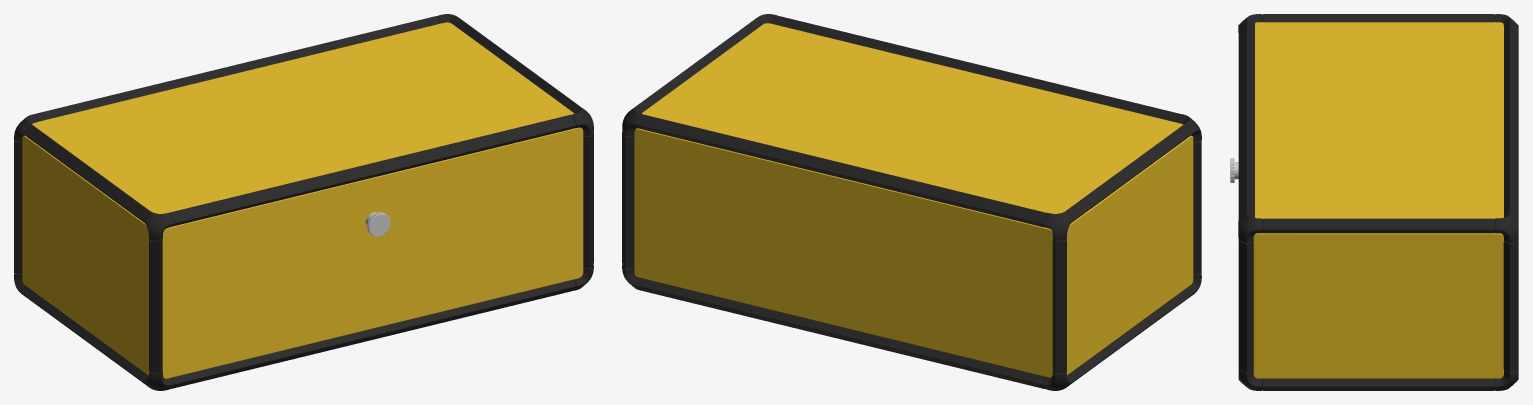
The picture shows the model from 3 angles, left to right: view 1: azimuth 30°, elevation 25°; view 2: azimuth 150°, elevation 25°; view 3: azimuth 270°, elevation 25°; orthographic projection. The views are drawn at different scales.
Visible parts, largest first — view 1: 729x374x229; view 2: 729x374x229; view 3: 729x374x229.
Part boxes in pixels (bbox=[...]): 729x374x229: bbox=[14, 14, 593, 390]; 729x374x229: bbox=[622, 14, 1201, 390]; 729x374x229: bbox=[1230, 14, 1518, 390].
Size of the model in its own units: 0.8067 by 0.3066 by 0.4646.
